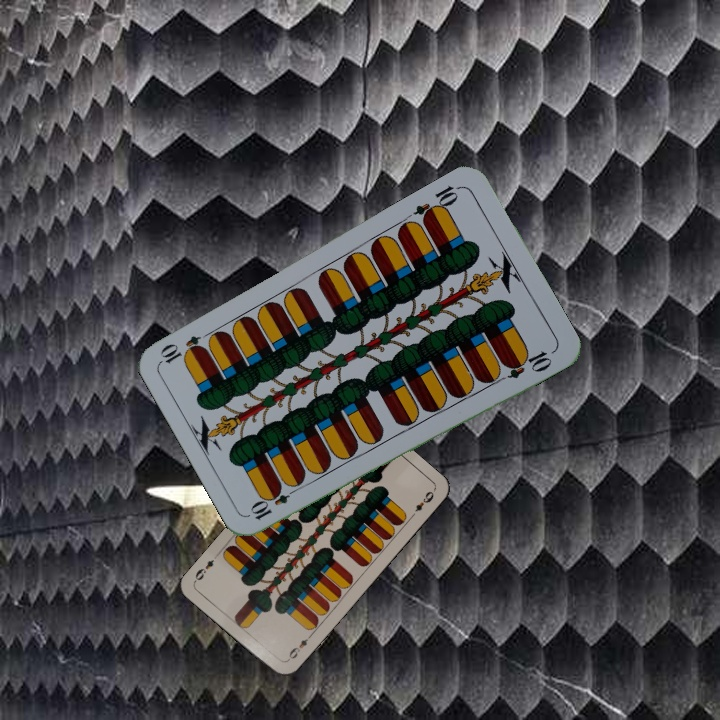E10: (410, 181, 464, 226), (247, 481, 302, 523)
E9: (283, 631, 314, 664)
